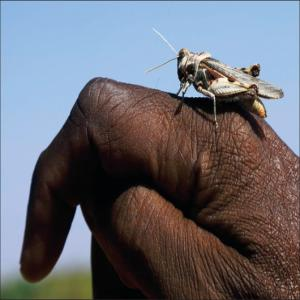locust: (157, 27, 289, 130)
